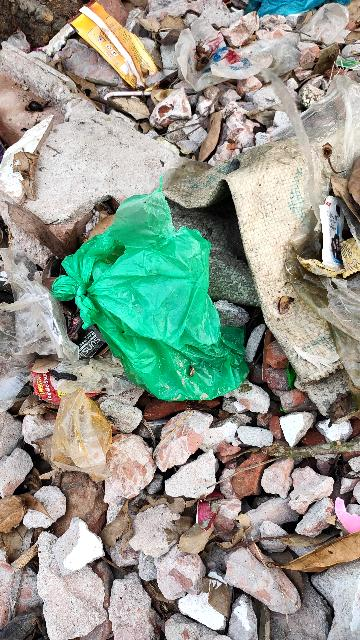polythene: (45, 173, 249, 430)
